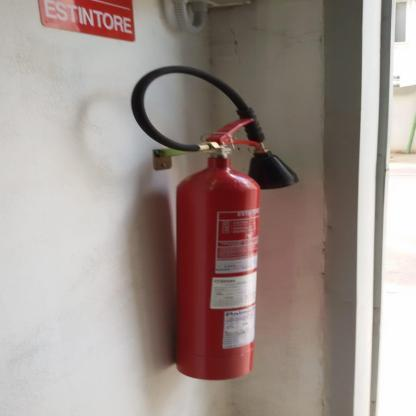Fire Extinguisher: (123, 40, 313, 388)
